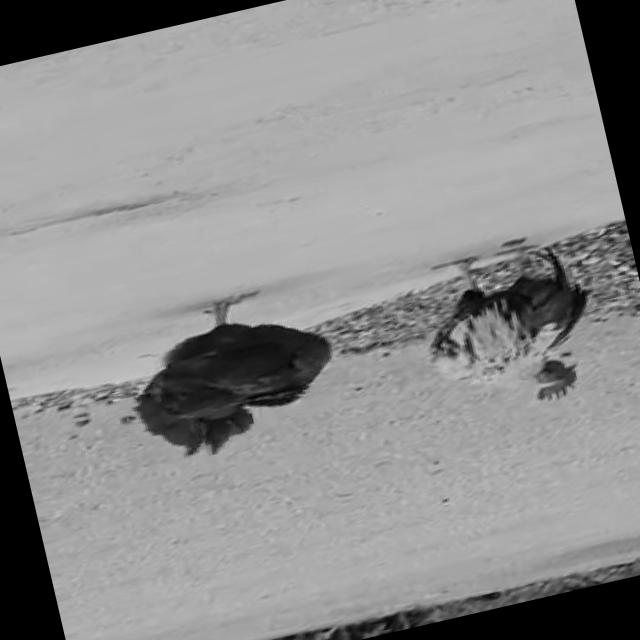self preening: (82, 272, 362, 486), (374, 222, 624, 438)
